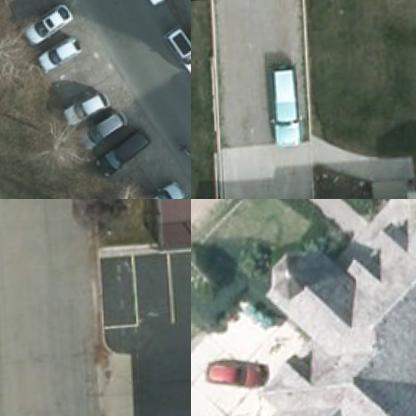car: (265, 62, 305, 148), (94, 124, 152, 177), (79, 107, 129, 150), (204, 358, 270, 390), (25, 2, 73, 44), (63, 90, 110, 130), (36, 36, 83, 74), (165, 22, 190, 75), (140, 177, 184, 198)
